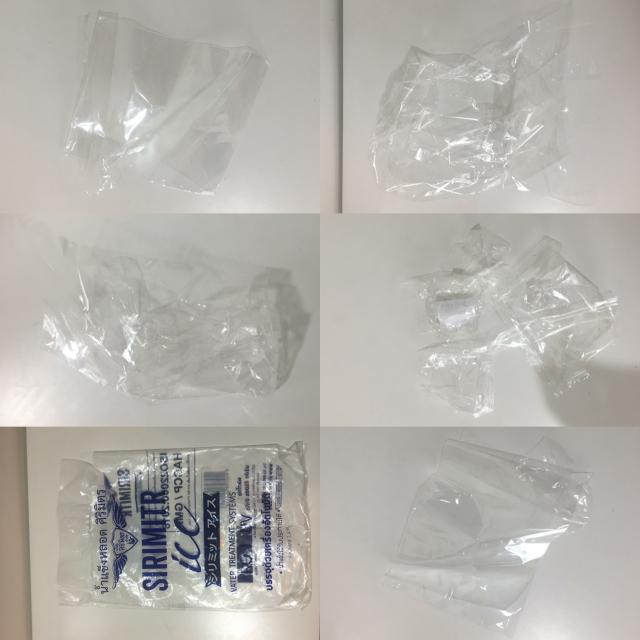Single-layer Plastic: (43, 236, 310, 402), (58, 441, 311, 611), (370, 4, 572, 200), (387, 438, 592, 631), (410, 225, 617, 416), (64, 11, 268, 194)
